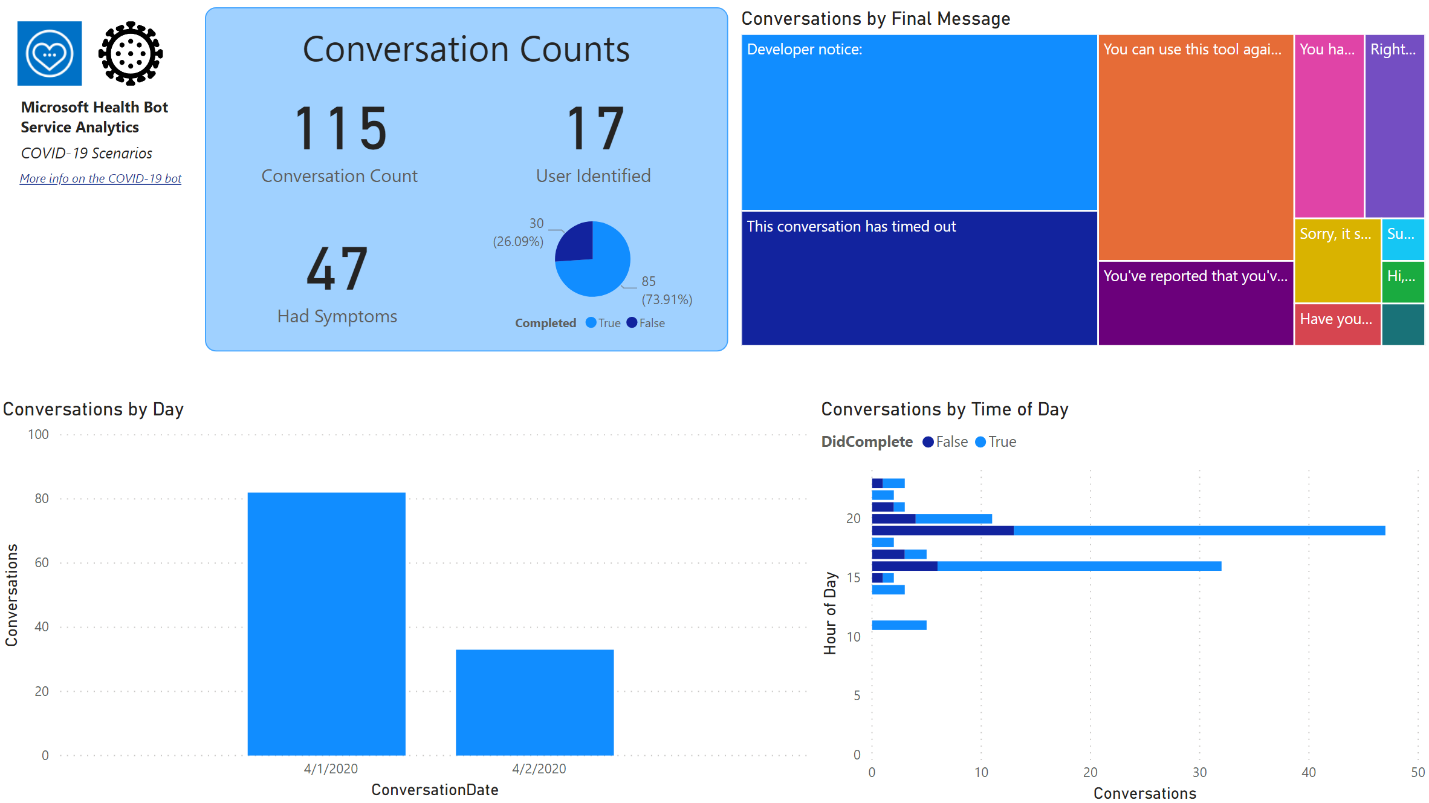

Layout of this report page (visuals, bound fields, positions):
{"tool":"powerbi","page":{"name":"Page 1","canvas":[1280,720],"ordinal":0},"visuals":[{"type":"basicShape","box":[185.5,8.2,467.4,307.7],"z":0,"group":"g1"},{"type":"treemap","title":"Conversations by Final Message","fields":{"Values":["Conversations.Conversation Count"],"Group":["Conversations.Text"]},"box":[660,8.2,621.2,307.7],"z":0},{"type":"image","box":[83.6,16.3,72.4,67.3],"z":0,"group":"g2"},{"type":"pieChart","title":"Completed Convs","fields":{"Y":["Conversations.Conversation Count"],"Category":["Conversations.DidComplete"]},"box":[387.5,185.5,288.9,122.1],"z":500,"group":"g1"},{"type":"image","box":[11.2,16.3,72.4,67.3],"z":1000,"group":"g2"},{"type":"card","fields":{"Values":["Conversations.Conversation Count"]},"box":[190.7,62,230.2,115.1],"z":1000,"group":"g1"},{"type":"columnChart","title":"Conversations by Day","fields":{"Category":["Conversations.ConversationEndTimestamp"],"Y":["Conversations.Conversation Count"]},"box":[0,357.7,731.7,362.8],"z":1000},{"type":"textbox","box":[16.3,83.6,155.9,47.9],"z":2000,"group":"g2"},{"type":"card","fields":{"Values":["Conversations.Conversation Count"]},"box":[188.4,187.6,230.2,115.1],"z":2000,"group":"g1"},{"type":"barChart","title":"Conversations by Time of Day","fields":{"Category":["Conversations.ConversationHourOfDay"],"Y":["Conversations.Conversation Count"],"Series":["Conversations.DidComplete"]},"box":[731.7,357.7,550.3,365.9],"z":2000},{"type":"group","id":"g1","title":"Conversation Counts","box":[185.5,8.2,490.9,307.7],"z":3000},{"type":"card","fields":{"Values":["Conversations.Conversation Count"]},"box":[417.3,62,230.2,115.1],"z":3000,"group":"g1"},{"type":"textbox","box":[16.3,124.3,155.9,33.6],"z":3000,"group":"g2"},{"type":"group","id":"g2","title":"Logo/Title","box":[11.2,16.3,161,141.7],"z":4000},{"type":"textbox","box":[185.5,16.4,467.4,57.5],"z":4000,"group":"g1"},{"type":"textbox","box":[6,146.1,172,33.7],"z":5000}]}

Visuals, with their boxes in screenshot pixels (x1, y1, x2, y2), scaled from the page's 1280x720 canvas onto the 1429x803 screenshot:
basicShape: [207,9,729,352]
"Conversations by Final Message" treemap: [737,9,1428,352]
image: [93,18,174,93]
"Completed Convs" pieChart: [433,207,755,343]
image: [13,18,93,93]
card - Conversations.Conversation Count: [213,69,470,198]
"Conversations by Day" columnChart: [0,399,817,802]
textbox: [18,93,192,147]
card - Conversations.Conversation Count: [210,209,467,338]
"Conversations by Time of Day" barChart: [817,399,1428,802]
"Conversation Counts" group: [207,9,755,352]
card - Conversations.Conversation Count: [466,69,723,198]
textbox: [18,139,192,176]
"Logo/Title" group: [13,18,192,176]
textbox: [207,18,729,82]
textbox: [7,163,199,201]
